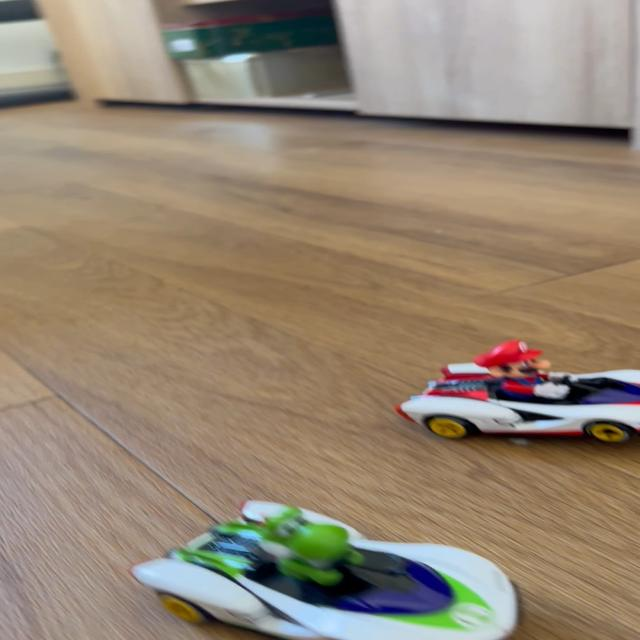mario: (394, 338, 640, 449)
yoshi: (132, 483, 542, 636)
